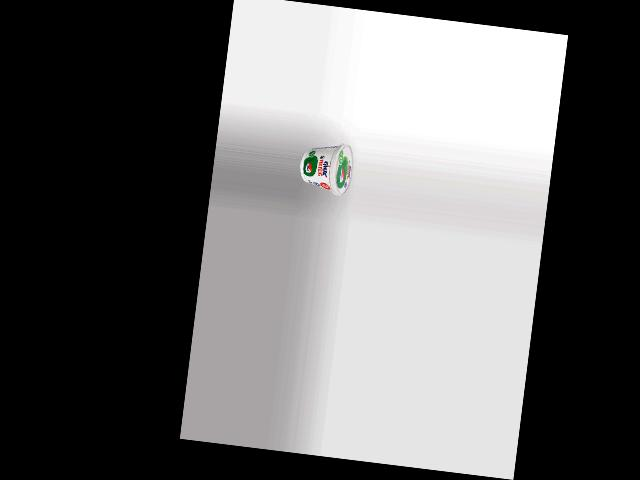cotage: (297, 137, 356, 198)
